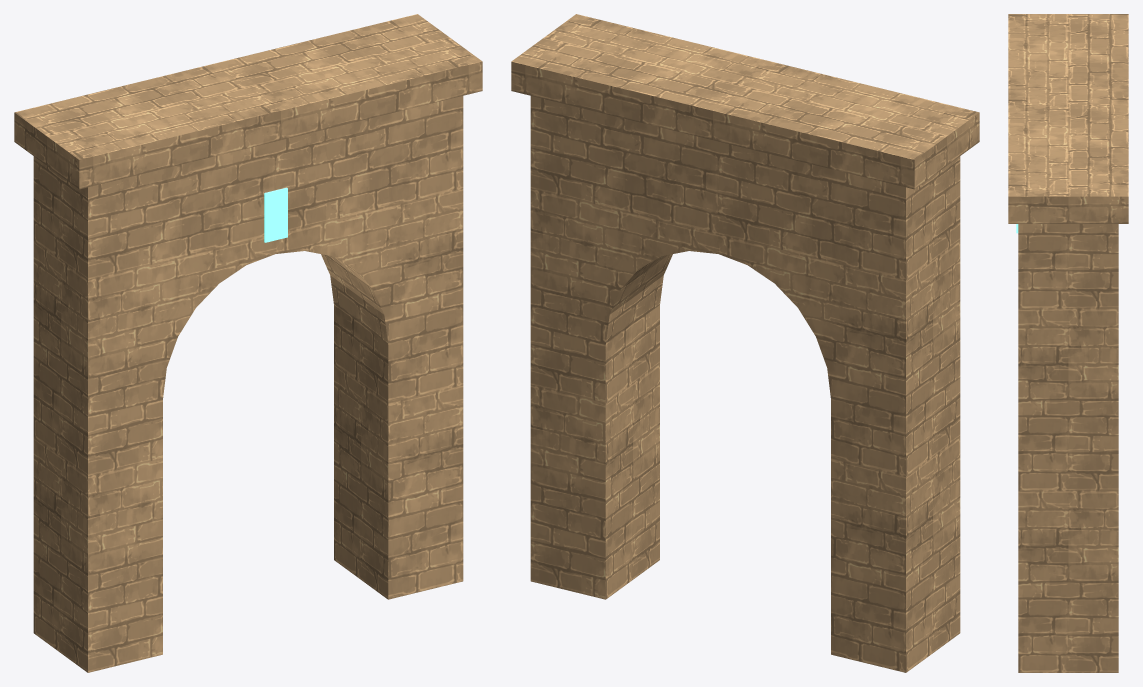
Rendered from arch.gltf.
3 views of the same model, side by side, from view 1: azimuth 30°, elevation 25°; view 2: azimuth 150°, elevation 25°; view 3: azimuth 270°, elevation 25° (orthographic). The views are drawn at different scales.
Visible parts, largest first — view 1: arch; view 2: arch; view 3: arch.
Part boxes in pixels (<box>): arch: <box>14,14,482,672</box>; arch: <box>511,14,979,672</box>; arch: <box>1008,14,1128,672</box>.
Size of the model in its own units: 4.3 by 5.3 by 1.2.
2 materials, 1 textured.
